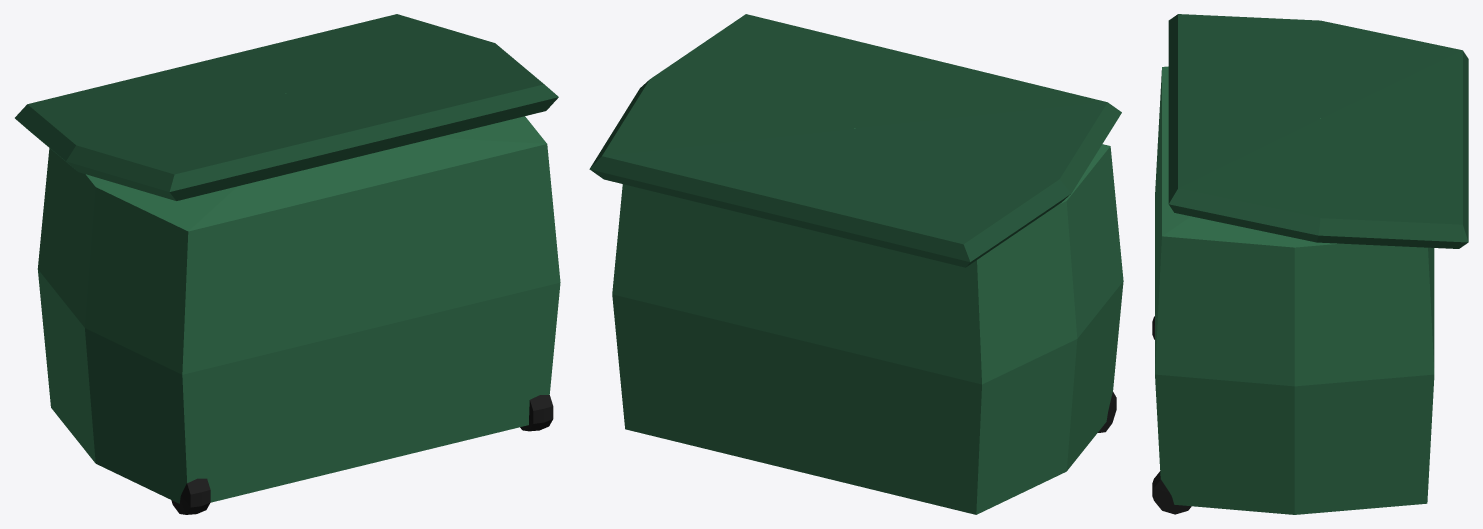
The model's file is s-dumpster.glb.
3 renders of one model, left to right at view 1: azimuth 30°, elevation 25°; view 2: azimuth 150°, elevation 25°; view 3: azimuth 270°, elevation 25°, orthographic. The views are drawn at different scales.
Visible parts, largest first — view 1: p; view 2: p; view 3: p.
Boxes of the visible parts, x1=… form: p: x1=15, y1=14, x2=560, y2=514; p: x1=589, y1=14, x2=1123, y2=514; p: x1=1152, y1=14, x2=1468, y2=514.
Size of the model in its own units: 2.06 by 1.52 by 1.32.
